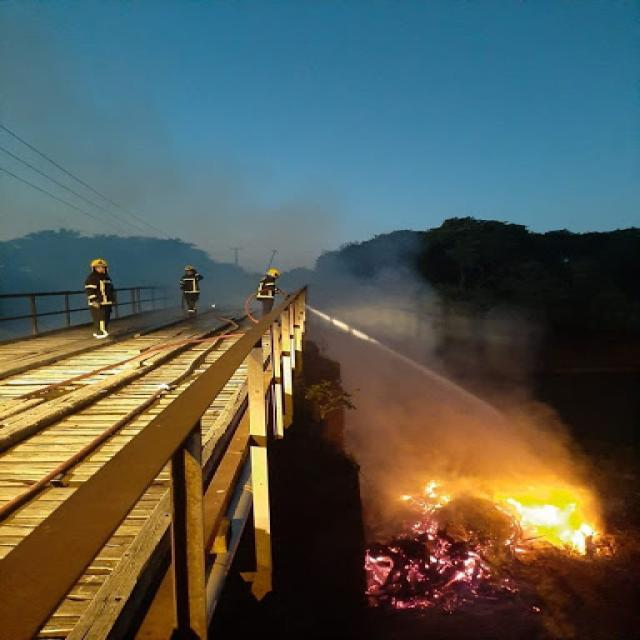Fire: (502, 497, 602, 552), (407, 479, 455, 509)
Smoke: (18, 72, 607, 488), (0, 23, 455, 344), (316, 249, 586, 446)
